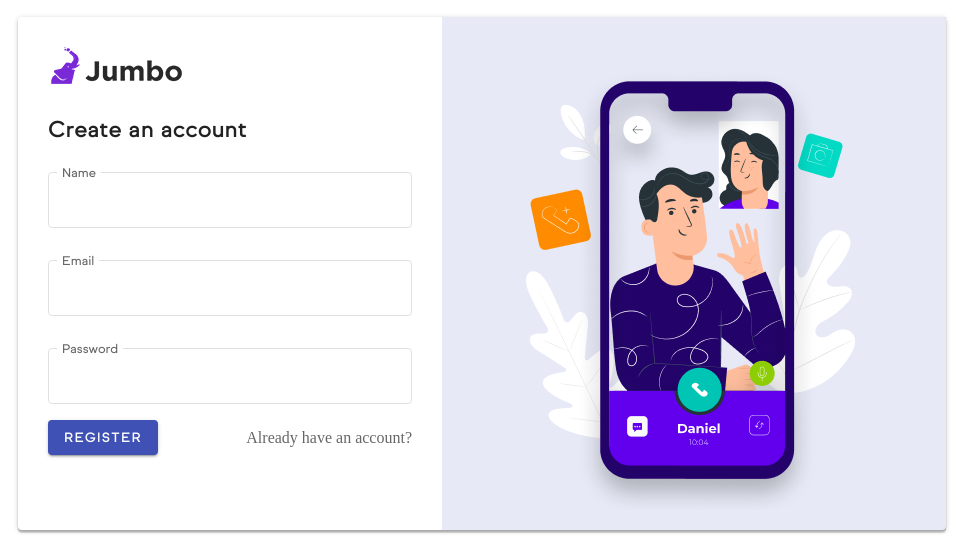
Test case: <SignUp /> › shows error when blurring email input
Focus the field with test id "signUp_emailInput" at (230, 288), box [48,260,412,316]
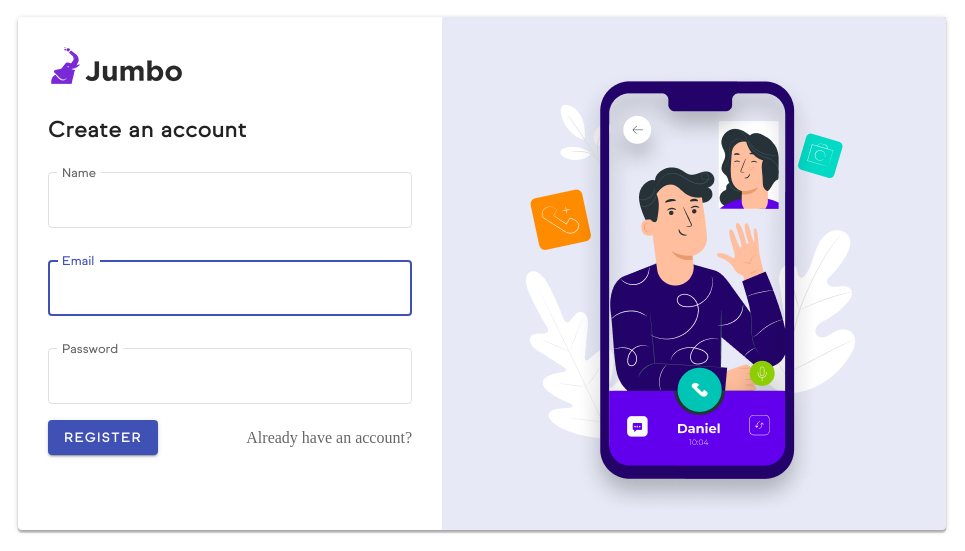
Leave the field with test id "signUp_emailInput", box [48,260,412,316]
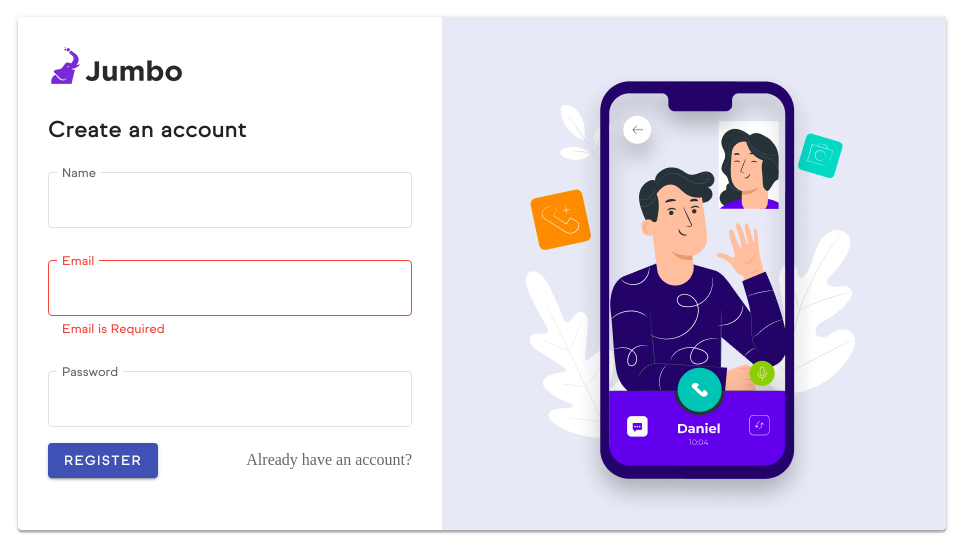
Result: the text "Email is Required" is shown at [62,321,165,336]
